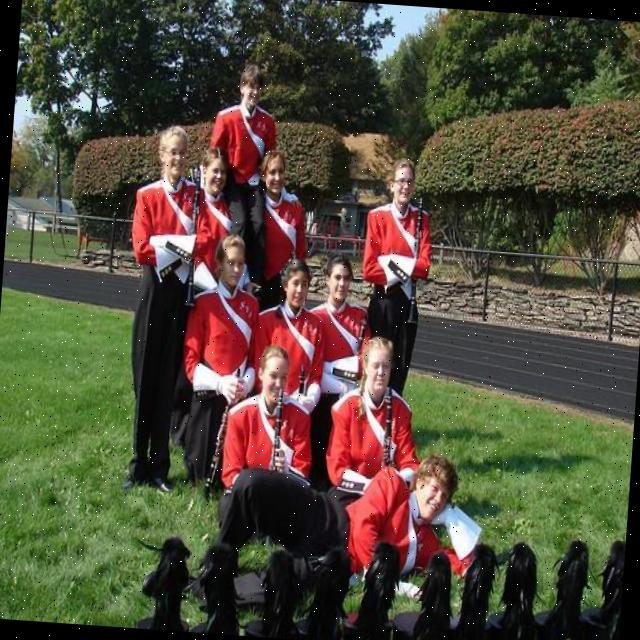clarinet: (202, 366, 243, 497), (179, 166, 208, 310), (404, 191, 428, 324), (377, 384, 398, 470), (268, 386, 288, 475), (352, 316, 370, 358), (298, 368, 305, 392)
